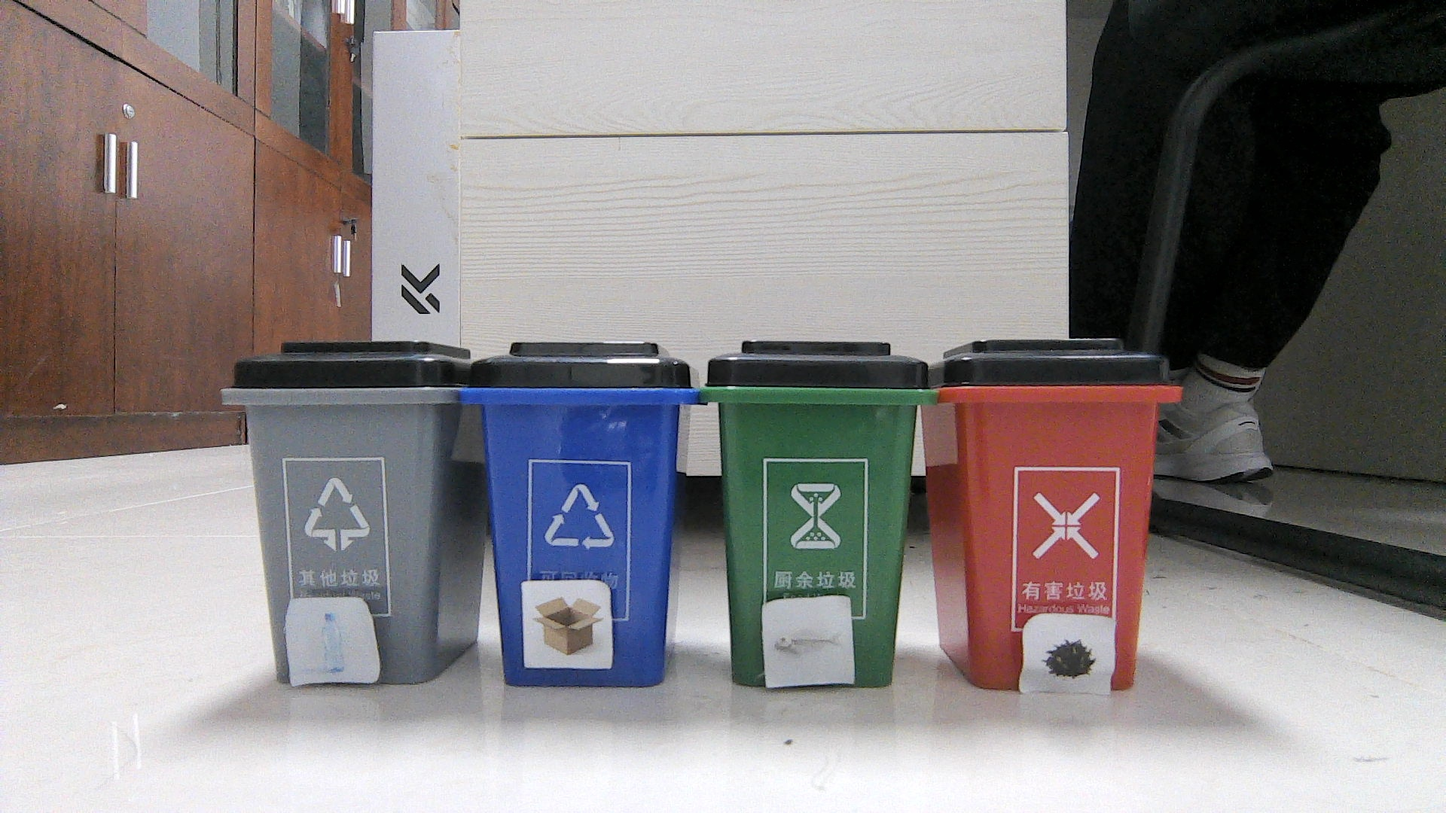food_trash: (767, 601, 849, 682), (1031, 620, 1108, 691)
recyclable_trash: (528, 584, 606, 665), (290, 601, 368, 680)
